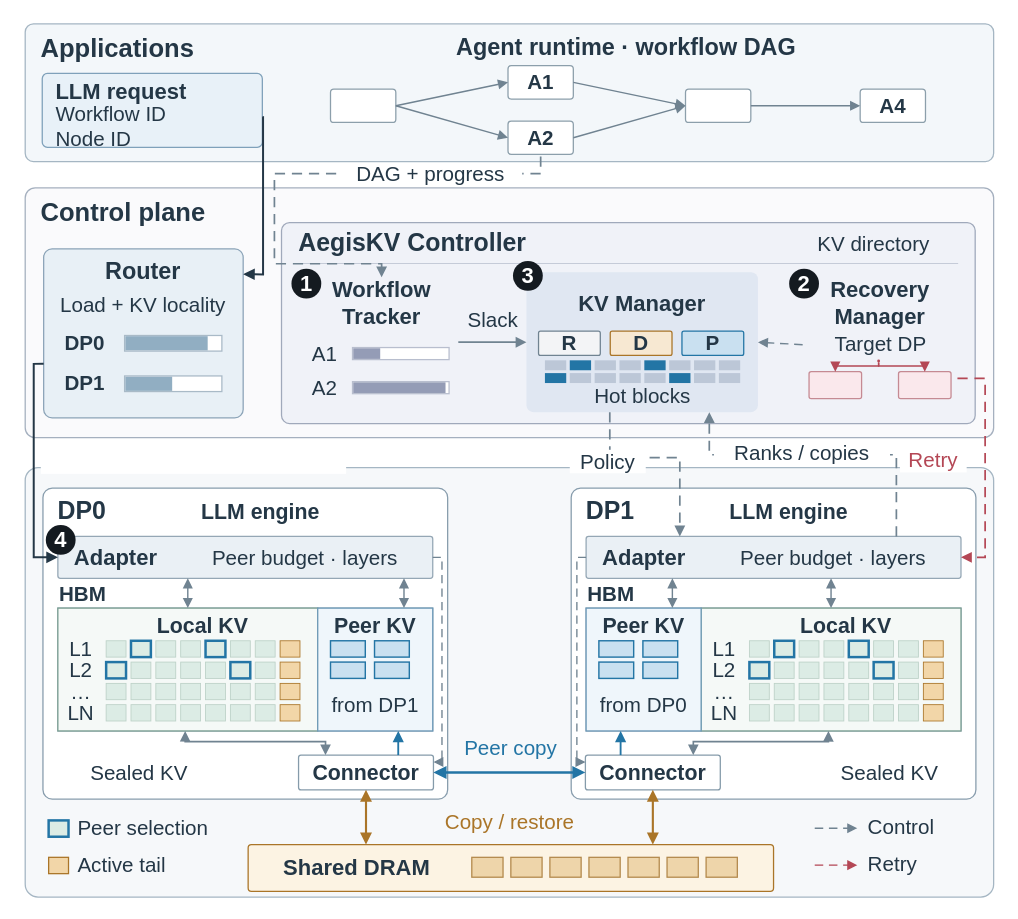
The diagram is 1018 pixels wide and 919 high, and some of its shapes have lost their labels. Here are the shapes that lost their labels. From the top down, the centre of each, then its label:
At point 363,105: "A0".
At point 718,105: "A3".
At point 835,385: "r1".
At point 924,385: "r2".
At point 193,458: "Inference engines".
